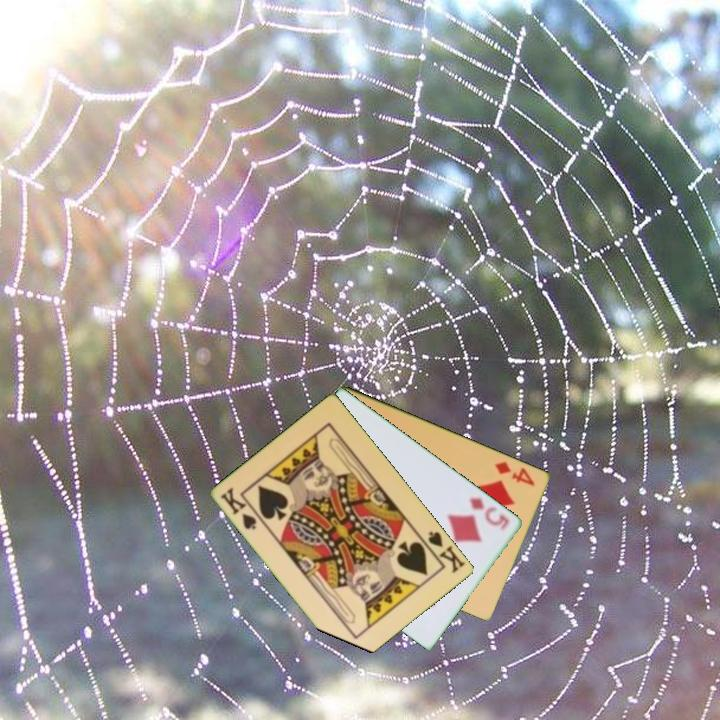4d: (491, 457, 538, 489)
5d: (466, 493, 513, 534)
Ks: (425, 527, 468, 576), (217, 484, 260, 533)
